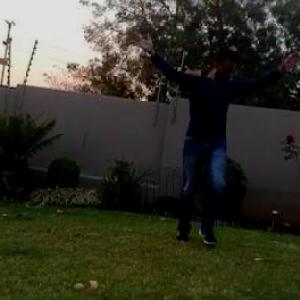takeoff: (134, 36, 299, 255)
